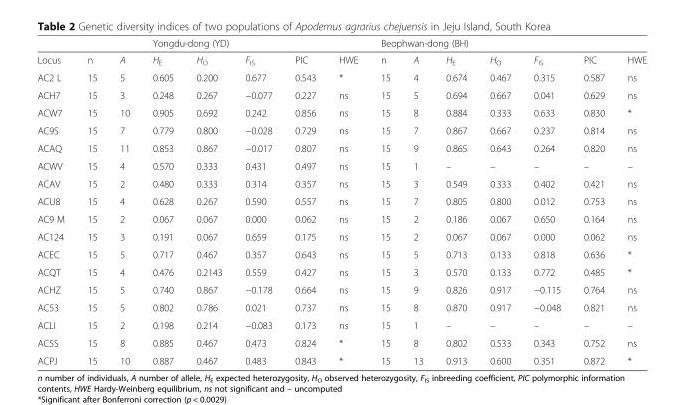table: (36, 37, 646, 365)
table column: (521, 37, 571, 365), (184, 37, 233, 365), (233, 37, 282, 365), (140, 37, 184, 365), (282, 37, 326, 365), (433, 37, 477, 365), (477, 37, 521, 365), (571, 37, 615, 365), (326, 37, 368, 365), (36, 37, 75, 365), (107, 37, 140, 365), (368, 37, 401, 365), (75, 37, 107, 365), (401, 37, 433, 365), (615, 37, 646, 365)
table column header: (36, 37, 646, 68)
table row: (36, 85, 646, 103), (36, 103, 646, 121), (36, 138, 646, 156), (36, 156, 646, 174), (36, 174, 646, 192), (36, 209, 646, 227), (36, 227, 646, 245), (36, 262, 646, 280), (36, 280, 646, 298), (36, 315, 646, 333), (36, 333, 646, 351), (36, 51, 646, 68), (36, 68, 646, 85), (36, 121, 646, 138), (36, 192, 646, 209), (36, 245, 646, 262), (36, 298, 646, 315), (36, 37, 646, 51), (36, 351, 646, 365)
table spanning cell: (368, 37, 646, 51), (140, 37, 368, 51), (36, 37, 75, 68), (107, 37, 140, 68), (75, 37, 107, 68)
